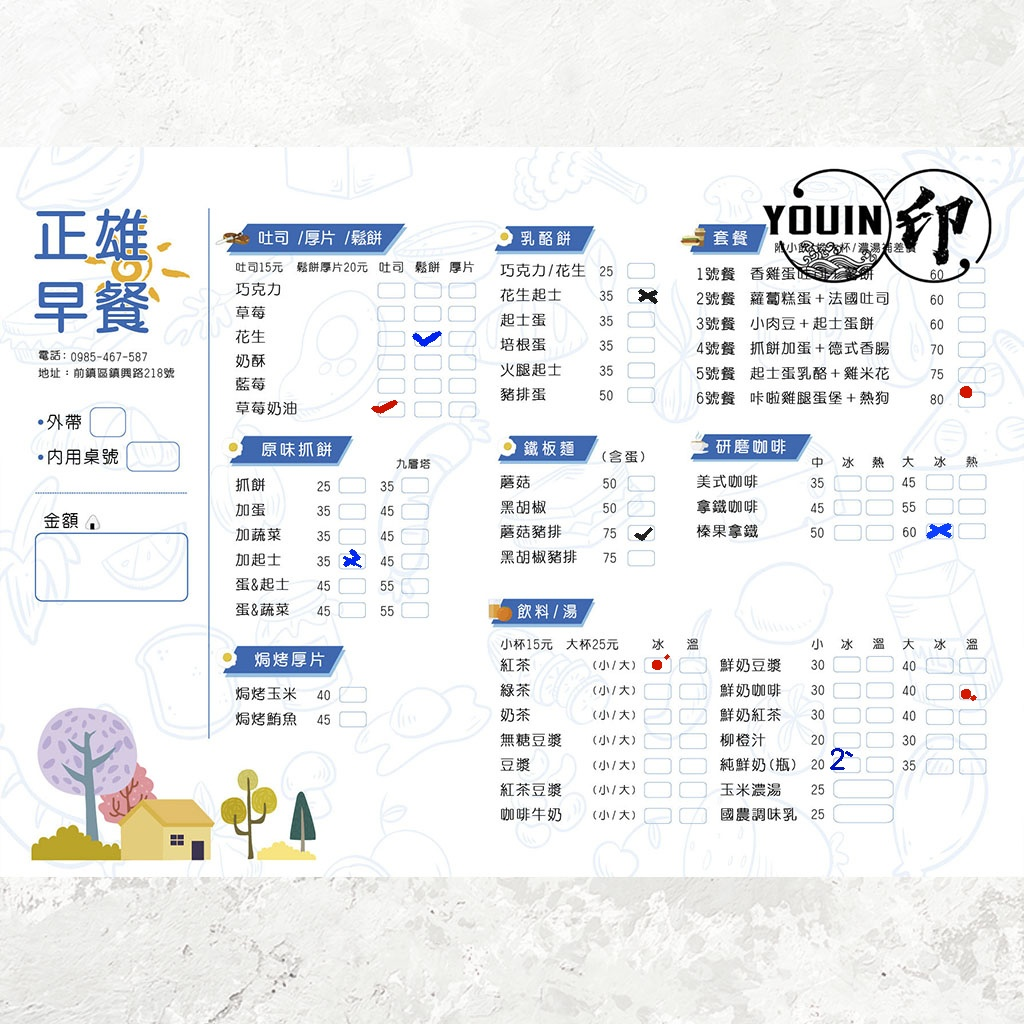marked_circle: (958, 391, 984, 405), (644, 657, 670, 671), (960, 684, 986, 698)
marked_number_2: (832, 755, 858, 769)
marked_tick: (377, 401, 403, 415), (414, 330, 440, 344), (625, 526, 651, 540)
marked_x: (926, 522, 952, 536), (337, 554, 363, 568), (628, 288, 654, 302)
